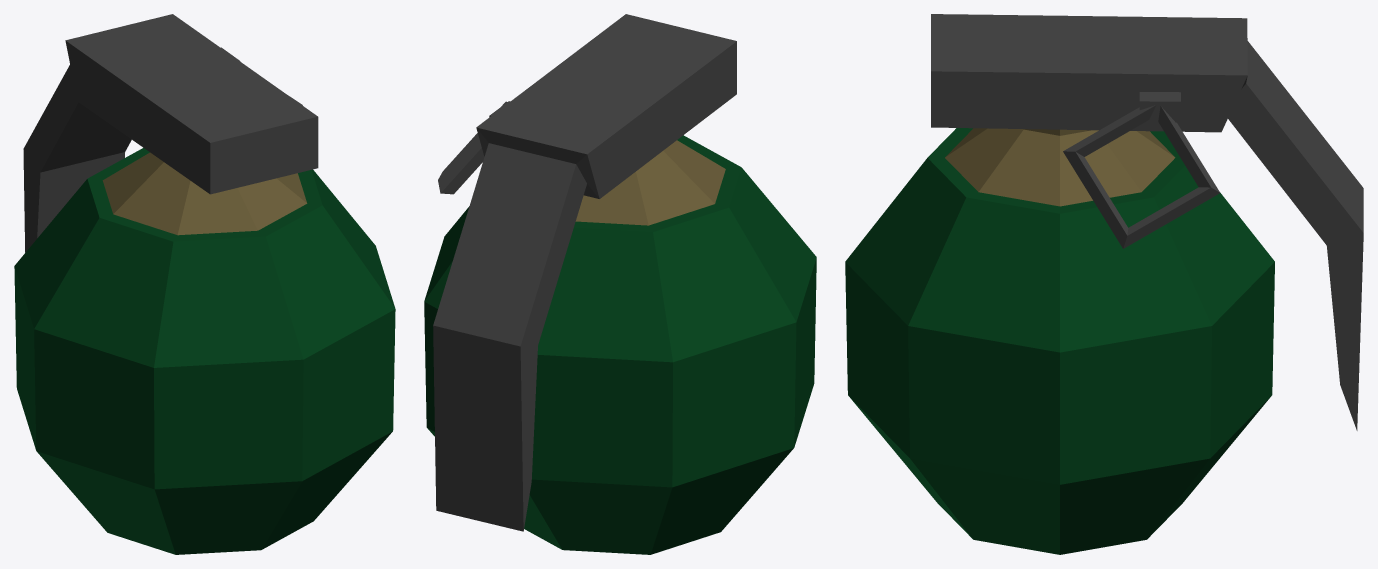
File: nad3z.fbx
The picture shows the model from 3 angles, left to right: view 1: azimuth 30°, elevation 25°; view 2: azimuth 150°, elevation 25°; view 3: azimuth 270°, elevation 25°; orthographic projection. The views are drawn at different scales.
Visible parts, largest first — view 1: Sphere; view 2: Sphere; view 3: Sphere.
Boxes of the visible parts, bbox=[...] form: Sphere: bbox=[14, 14, 395, 554]; Sphere: bbox=[424, 14, 816, 554]; Sphere: bbox=[845, 14, 1363, 554].
Size of the model in its own units: 16.41 by 20.22 by 19.8.
